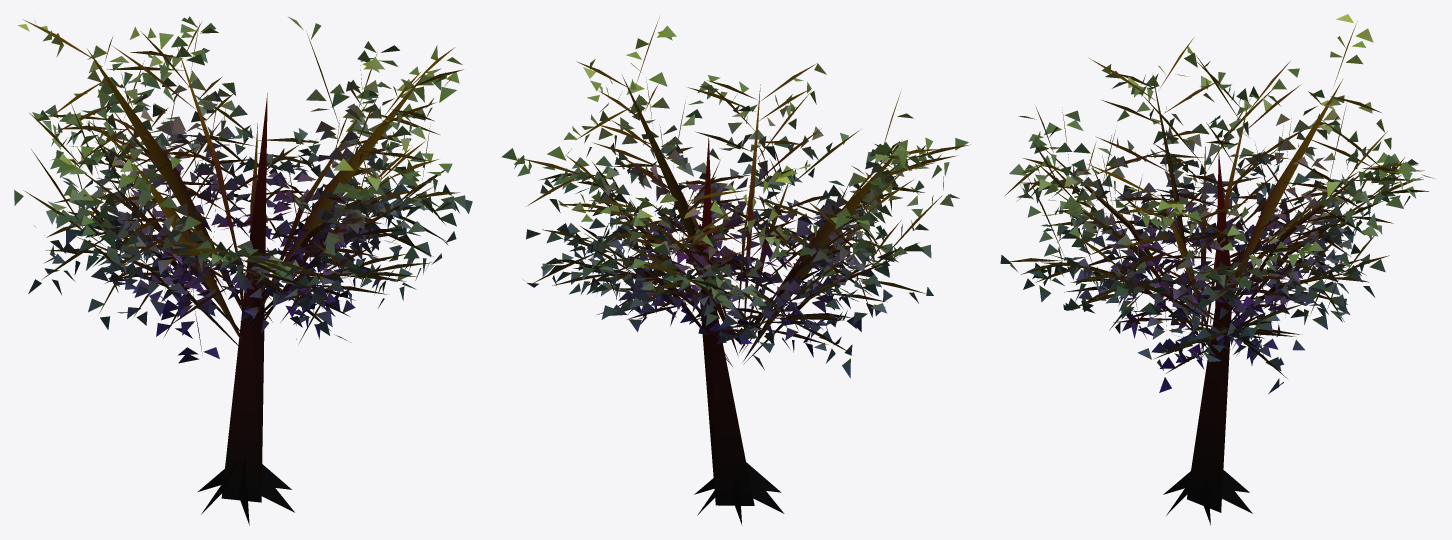
File: Tree_Olivo_LOD1.fbx
3 renders of one model, left to right at view 1: azimuth 30°, elevation 25°; view 2: azimuth 150°, elevation 25°; view 3: azimuth 270°, elevation 25°, orthographic. The views are drawn at different scales.
Visible parts, largest first — view 1: Tree_Olivo_LOD1; view 2: Tree_Olivo_LOD1; view 3: Tree_Olivo_LOD1.
Part boxes in pixels (x1,y1,x2,y2): Tree_Olivo_LOD1: [14, 16, 472, 525]; Tree_Olivo_LOD1: [501, 17, 970, 525]; Tree_Olivo_LOD1: [1000, 14, 1434, 525].
Size of the model in its own units: 9.33 by 9.68 by 9.07.
